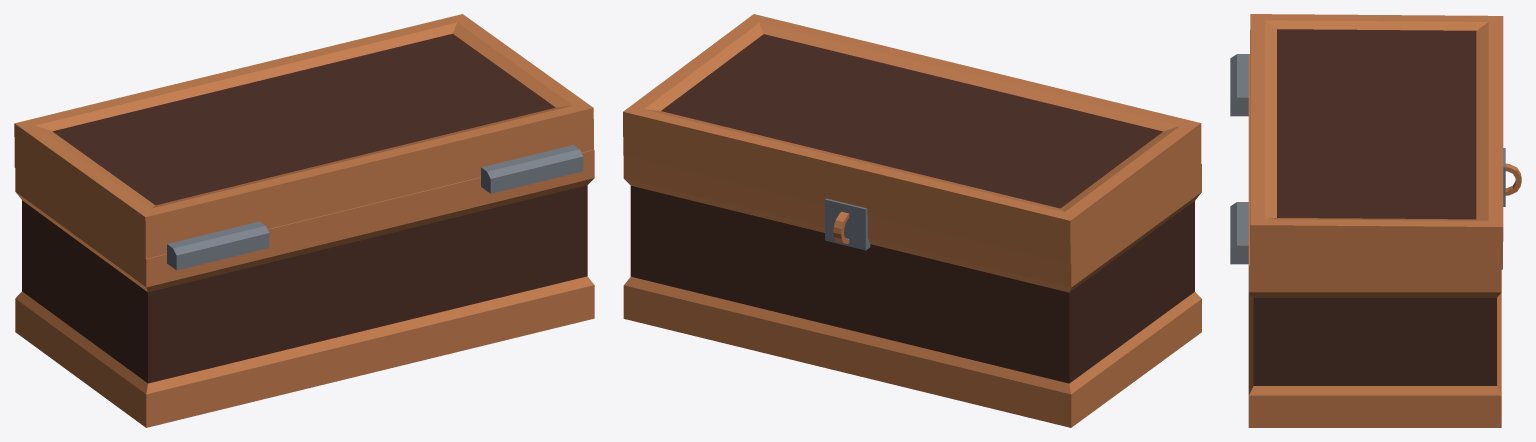
Rendered from Forziere.fbx.
3 views of the same model, side by side, from view 1: azimuth 30°, elevation 25°; view 2: azimuth 150°, elevation 25°; view 3: azimuth 270°, elevation 25° (orthographic). The views are drawn at different scales.
Parts seen in each view (by area): view 1: Cube.046, Cube.047; view 2: Cube.046, Cube.047; view 3: Cube.047, Cube.046, Cube.048.
Part boxes in pixels (x1,y1,x2,y2): Cube.046: (15,145,594,427); Cube.047: (14,14,593,260); Cube.046: (623,155,1201,427); Cube.047: (623,14,1201,264); Cube.047: (1250,14,1503,269); Cube.046: (1230,54,1505,427); Cube.048: (1505,163,1521,195).
Size of the model in its own units: 136 by 60.9 by 79.31.
